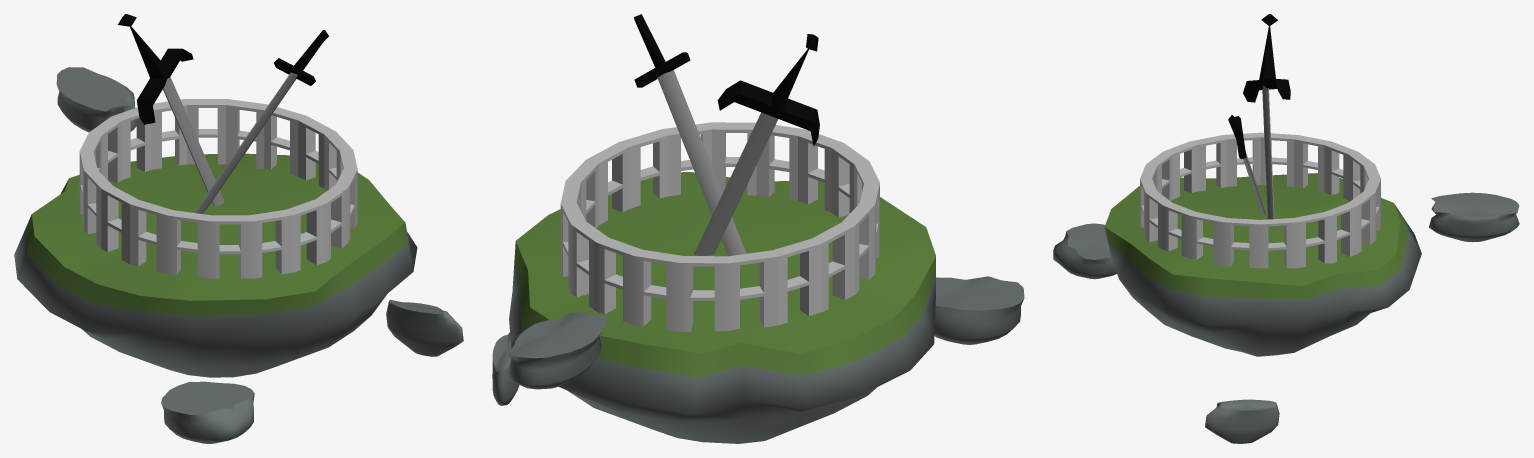
Rendered from TitleKoro.fbx.
3 views of the same model, side by side, from view 1: azimuth 30°, elevation 25°; view 2: azimuth 150°, elevation 25°; view 3: azimuth 270°, elevation 25° (orthographic). The views are drawn at different scales.
Visible parts, largest first — view 1: pCylinder2, pCylinder1, pasted__pCylinder3 (×2), pCylinder3, pCube2, pasted__pasted__pCube1, pasted__pCube1, pCube1; view 2: pCylinder2, pCylinder1, pasted__pCylinder3 (×2), pCylinder3, pasted__pCube1, pCube2, pasted__pasted__pCube1, pCube1; view 3: pCylinder2, pCylinder1, pasted__pCylinder3 (×2), pCylinder3, pCube2, pasted__pasted__pCube1.
Boxes of the visible parts, x1=… form: pCylinder2: x1=14, y1=153, x2=417, y2=377; pCylinder1: x1=79, y1=99, x2=357, y2=278; pasted__pCylinder3 (×2): x1=56, y1=67, x2=463, y2=356; pCylinder3: x1=161, y1=381, x2=254, y2=443; pCube2: x1=118, y1=14, x2=193, y2=124; pasted__pasted__pCube1: x1=163, y1=77, x2=224, y2=205; pasted__pCube1: x1=194, y1=72, x2=297, y2=213; pCube1: x1=274, y1=30, x2=328, y2=85; pCylinder2: x1=509, y1=172, x2=935, y2=443; pCylinder1: x1=560, y1=122, x2=879, y2=331; pasted__pCylinder3 (×2): x1=492, y1=312, x2=606, y2=405; pCylinder3: x1=934, y1=276, x2=1024, y2=344; pasted__pCube1: x1=657, y1=70, x2=746, y2=255; pCube2: x1=717, y1=34, x2=819, y2=146; pasted__pasted__pCube1: x1=694, y1=112, x2=778, y2=255; pCube1: x1=634, y1=14, x2=690, y2=87; pCylinder2: x1=1104, y1=173, x2=1421, y2=356; pCylinder1: x1=1140, y1=132, x2=1380, y2=268; pasted__pCylinder3 (×2): x1=1205, y1=192, x2=1519, y2=443; pCylinder3: x1=1053, y1=223, x2=1116, y2=279; pCube2: x1=1243, y1=14, x2=1290, y2=102; pasted__pasted__pCube1: x1=1262, y1=85, x2=1274, y2=219.
Bounding box in the file's own units: 1653 × 1660 × 2196.
